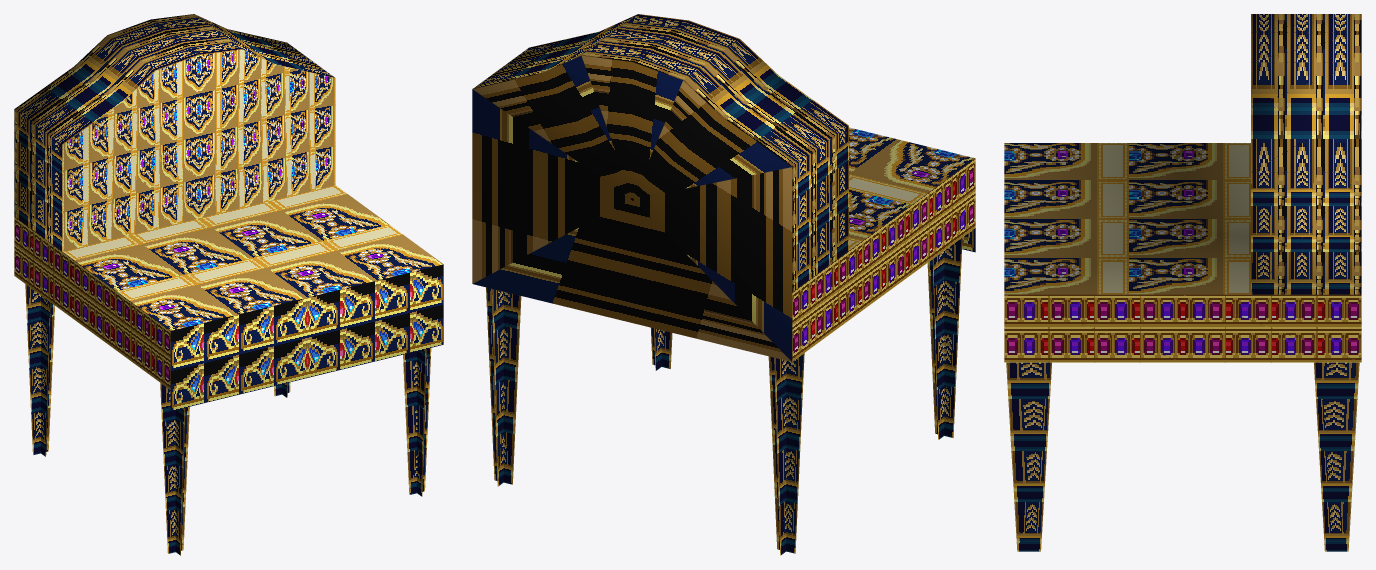
3 views of the same model, side by side, from view 1: azimuth 30°, elevation 25°; view 2: azimuth 150°, elevation 25°; view 3: azimuth 270°, elevation 25° (orthographic). The views are drawn at different scales.
Parts seen in each view (by area): view 1: 3708kg_tr_ob0; view 2: 3708kg_tr_ob0; view 3: 3708kg_tr_ob0.
Boxes of the visible parts, bbox=[...] form: 3708kg_tr_ob0: bbox=[14, 14, 443, 555]; 3708kg_tr_ob0: bbox=[472, 14, 975, 555]; 3708kg_tr_ob0: bbox=[1004, 14, 1361, 551].
Bounding box in the file's own units: 0.9199 × 1.28 × 0.9136.
Materials: 4 (4 with a texture image).
